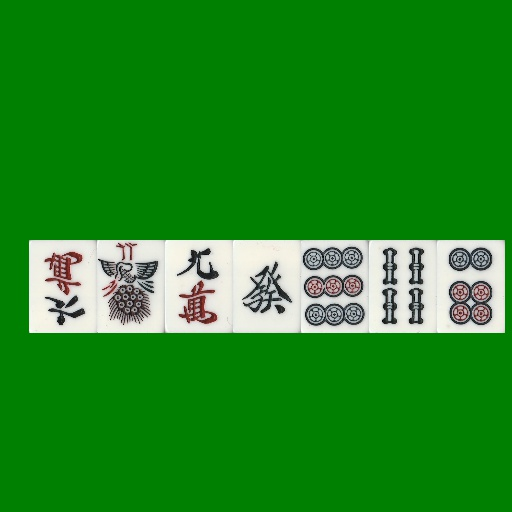1s: (97, 240, 165, 333)
4s: (369, 240, 437, 333)
6m: (29, 240, 97, 333)
6p: (437, 240, 505, 333)
9m: (165, 240, 233, 333)
9p: (301, 240, 369, 333)
hatsu: (233, 240, 301, 333)
